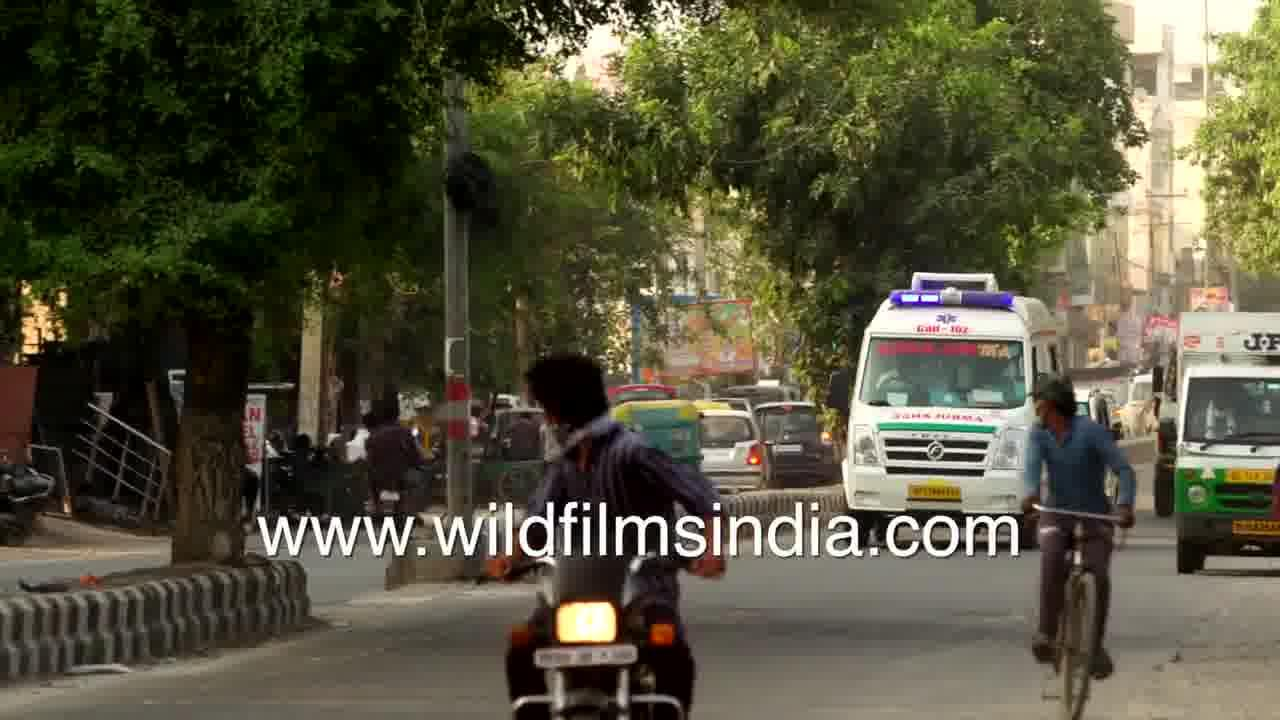AMBULANCE: (844, 269, 1048, 513)
